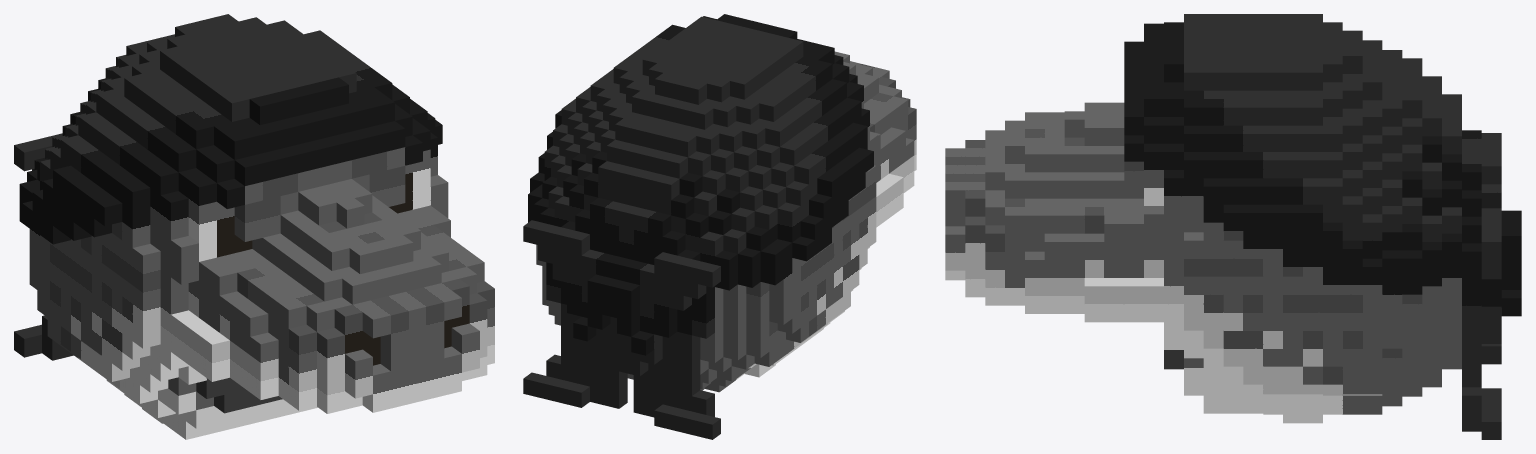
File: black durag_3d glasses.gltf
3 renders of one model, left to right at view 1: azimuth 30°, elevation 25°; view 2: azimuth 150°, elevation 25°; view 3: azimuth 270°, elevation 25°, orthographic. The views are drawn at different scales.
Parts seen in each view (by area): view 1: C19_H_blacDurag_CoolDude-Mesh; view 2: C19_H_blacDurag_CoolDude-Mesh; view 3: C19_H_blacDurag_CoolDude-Mesh.
Part boxes in pixels (bbox=[...]): C19_H_blacDurag_CoolDude-Mesh: bbox=[14, 14, 494, 439]; C19_H_blacDurag_CoolDude-Mesh: bbox=[523, 14, 916, 439]; C19_H_blacDurag_CoolDude-Mesh: bbox=[945, 14, 1521, 439].
Size of the model in its own units: 19 by 19 by 29.
Materials: 1 (1 with a texture image).
